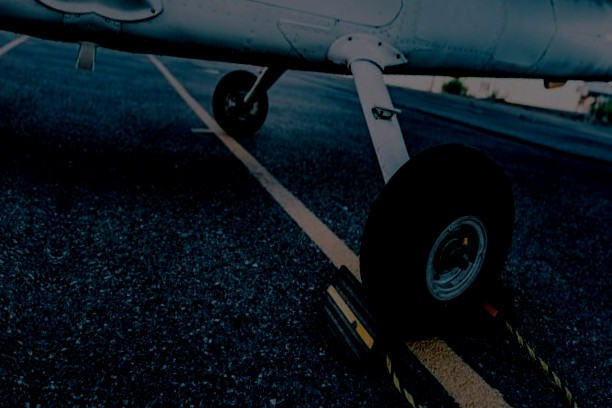chock: (304, 259, 418, 380), (451, 271, 525, 343)
wheel: (347, 131, 526, 352), (205, 63, 273, 140)
